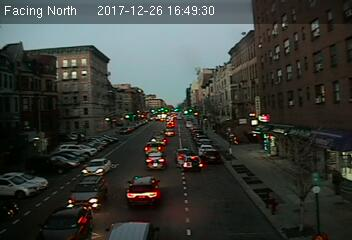car: (65, 177, 109, 211), (126, 176, 164, 209), (79, 157, 113, 176), (144, 151, 167, 169), (182, 154, 203, 172), (203, 147, 220, 162), (144, 139, 162, 153)
